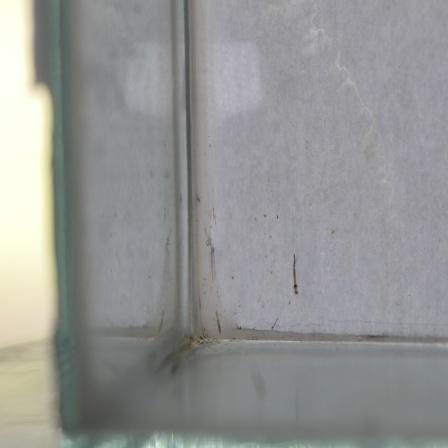Jentik-Nyamuk: (287, 251, 302, 297)
